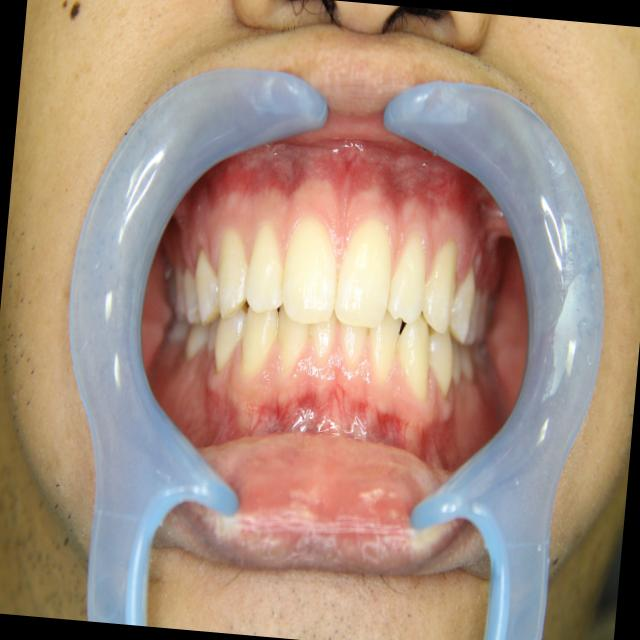tooth: (273, 202, 351, 336), (329, 213, 402, 336), (236, 211, 297, 322), (384, 221, 436, 331), (204, 224, 259, 327), (389, 308, 442, 406), (418, 229, 462, 344), (236, 290, 288, 383), (184, 243, 235, 333), (269, 295, 314, 379), (206, 300, 253, 377), (363, 306, 407, 388), (419, 320, 459, 401), (331, 306, 373, 381), (299, 307, 343, 377), (452, 257, 479, 348), (174, 262, 210, 330), (167, 258, 193, 322), (180, 316, 212, 367), (161, 256, 182, 313), (445, 336, 467, 388), (466, 283, 483, 349), (455, 343, 479, 389), (475, 286, 491, 346), (199, 316, 221, 358), (165, 314, 190, 346), (467, 340, 490, 373)
